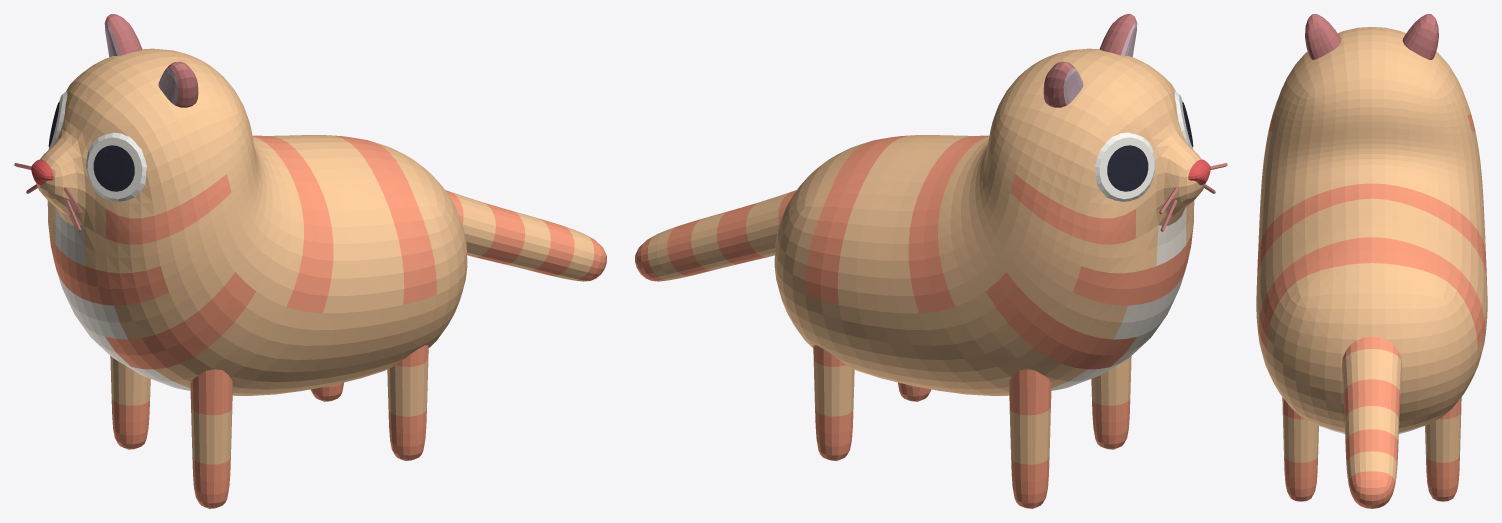
File: Cat_LOD0.fbx
The picture shows the model from 3 angles, left to right: view 1: azimuth 30°, elevation 25°; view 2: azimuth 150°, elevation 25°; view 3: azimuth 270°, elevation 25°; orthographic projection. The views are drawn at different scales.
Visible parts, largest first — view 1: Mesh; view 2: Mesh; view 3: Mesh.
Part boxes in pixels (bbox=[...]): Mesh: bbox=[14, 14, 606, 508]; Mesh: bbox=[635, 14, 1227, 508]; Mesh: bbox=[1256, 14, 1487, 508].
Size of the model in its own units: 291 by 217 by 117.
Materials: 1 (1 with a texture image).
